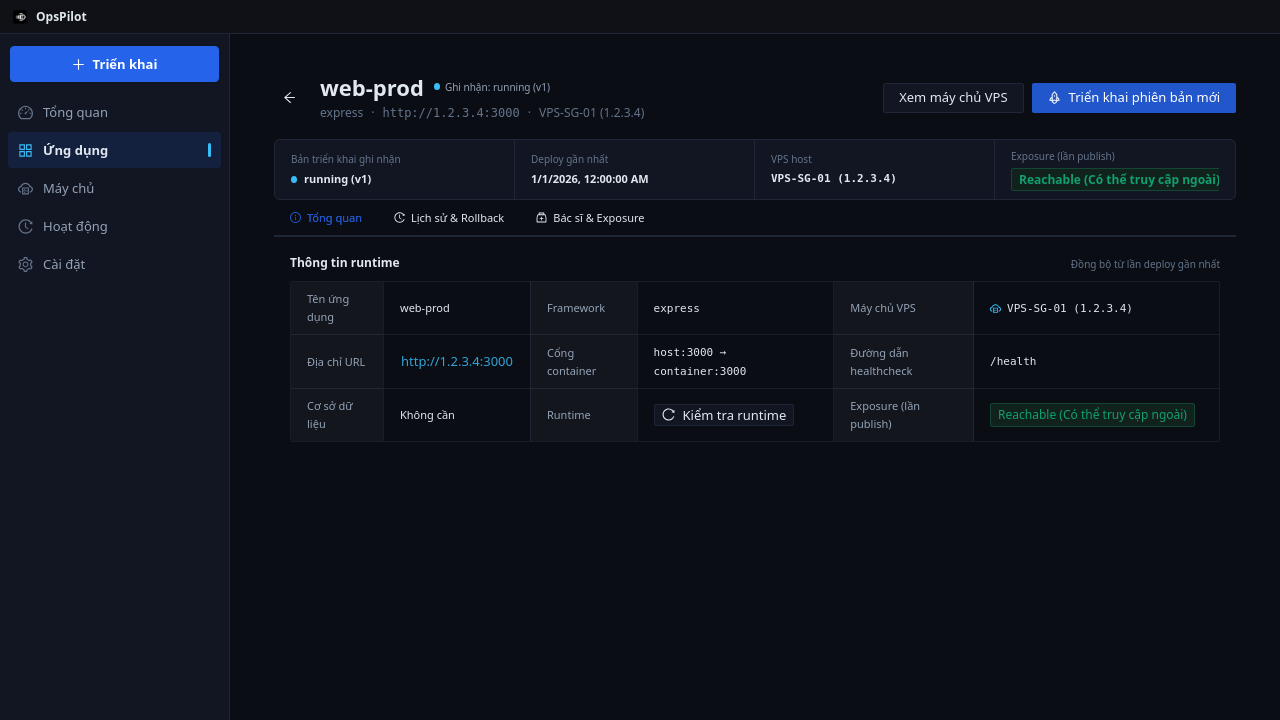
Test case: App — UI-1a Desktop Shell & Navigation › bat dau voi deployPreselect khac app dang xem va nhan phan hoi sai ID tu app:get: xoa preselect cu ngay lap tuc, nguoi dung van o trang hien tai, khong tu mo De
The width and height of the screenshot is (1280, 720).
Expected: the heading "web-prod" is shown, [320,72,424,102]
Click the button "Triển khai" at point(114, 64), box [10,46,219,82]
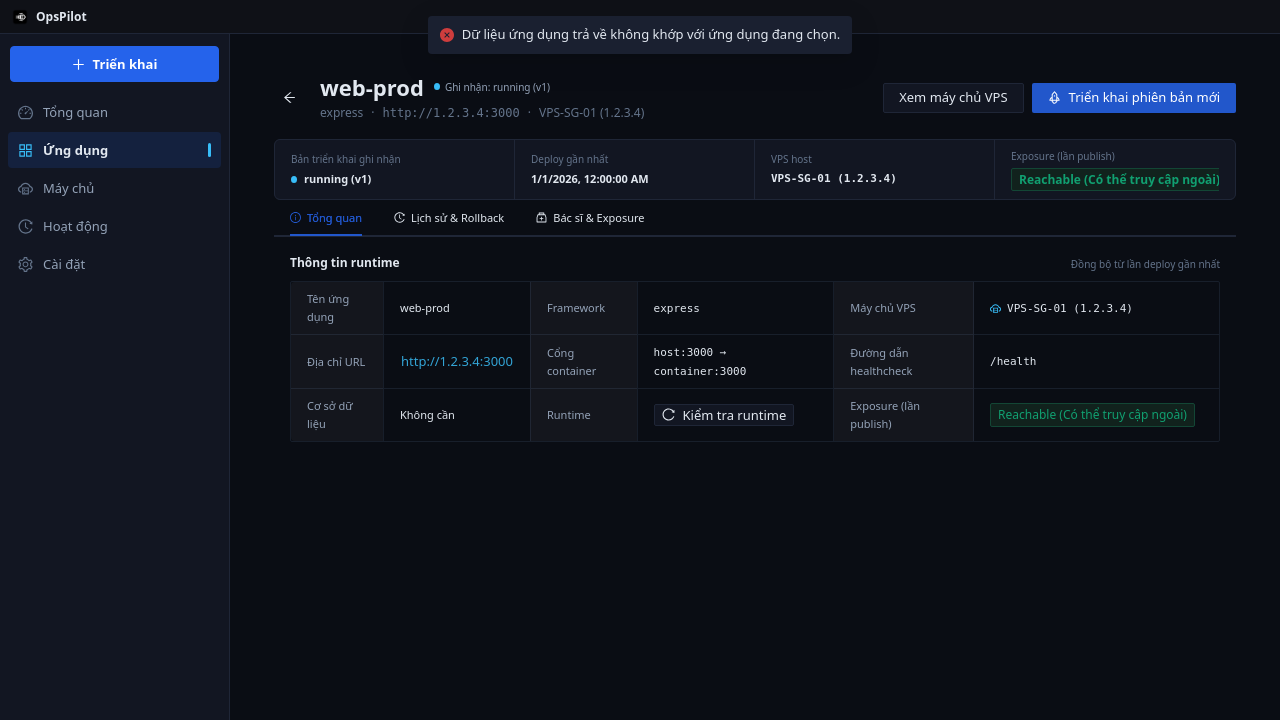
Expected: the text "Dữ liệu ứng dụng trả về không khớp với ứng dụng đang chọn." is shown, [462,24,840,45]
